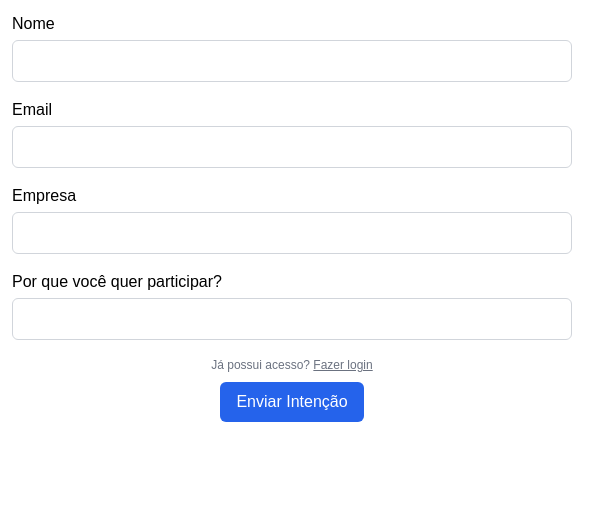
Test: IntentionForm › mostra erro de email inválido
In the field labelled "Email": (292, 147) [12,126,572,168], type "email-invalido"
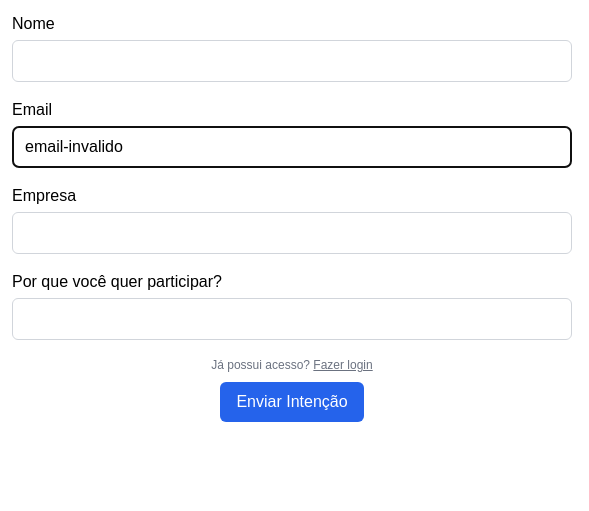
Click the button "Enviar Intenção": (292, 402) [220,382,364,422]
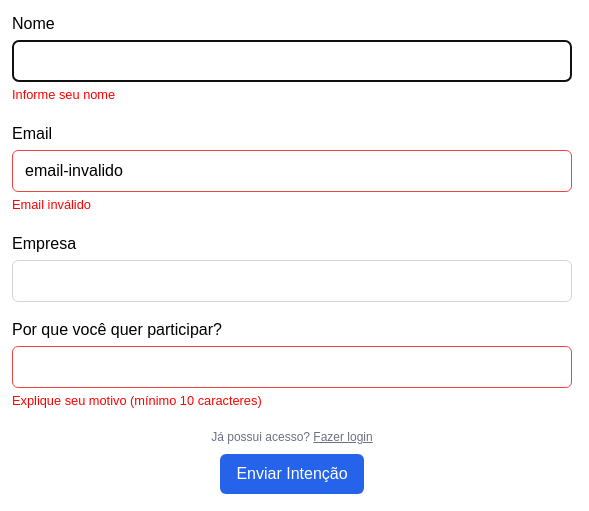
Check: the text "Email inválido" is shown, box [12,197,91,212]
